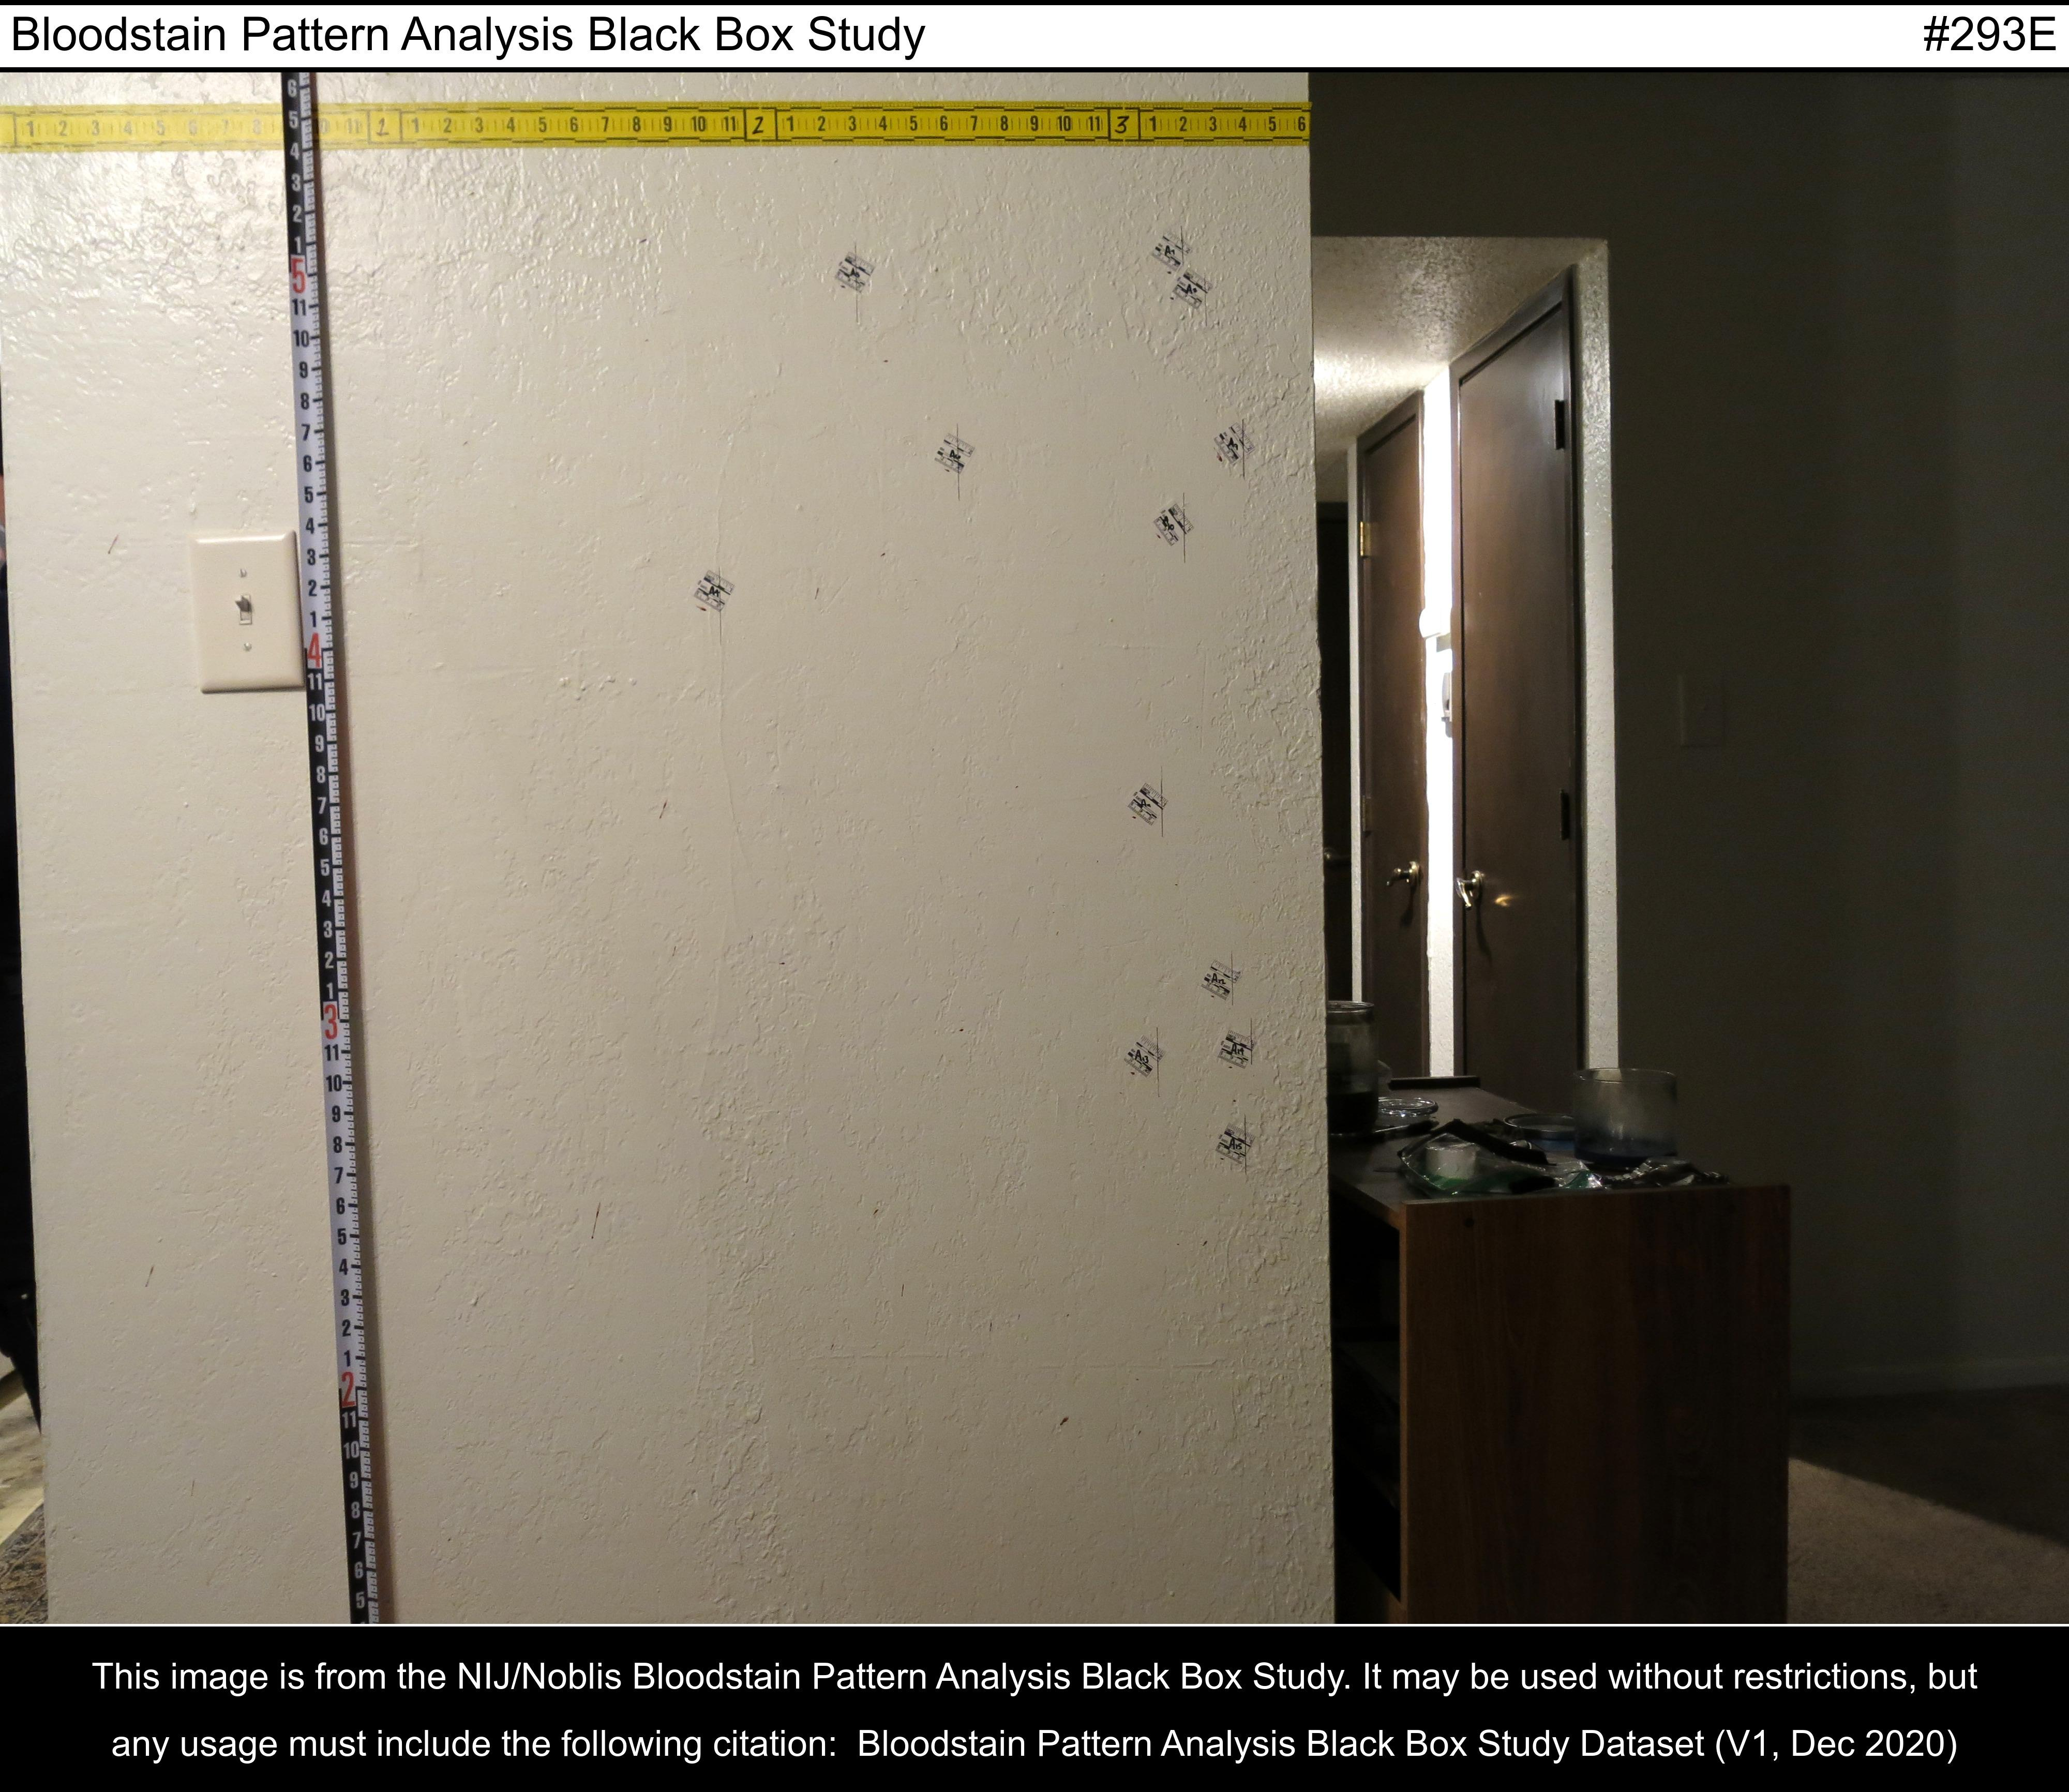Impact: (519, 174, 1309, 1224)
